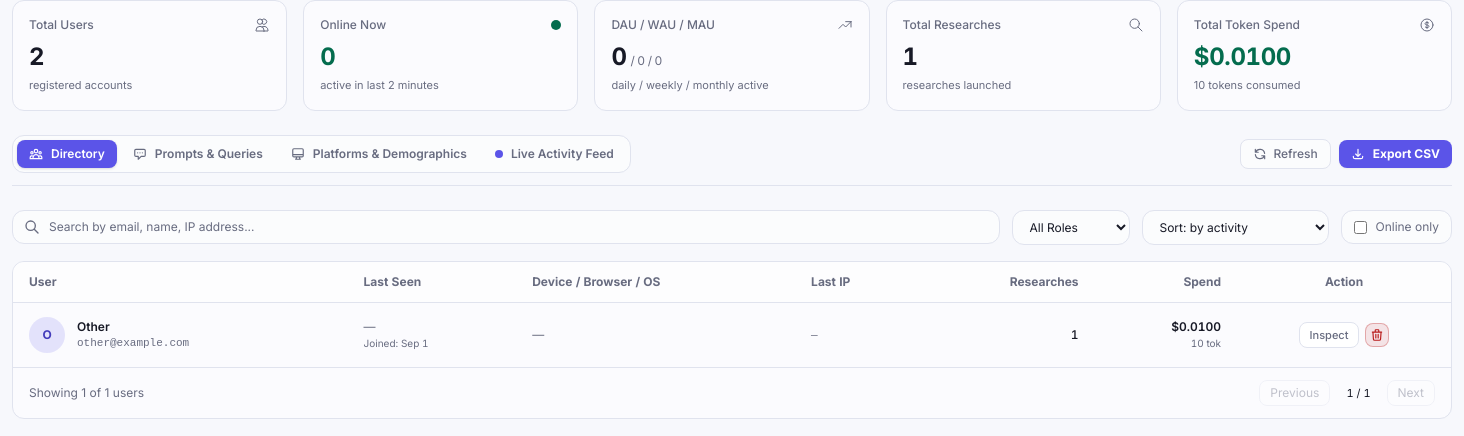
Test: admin UsersTab › does not link to other users' research (owner-scoped routes would 404)
The width and height of the screenshot is (1464, 436).
Click the button "Prompts & Queries": click(198, 154) [121, 140, 275, 168]
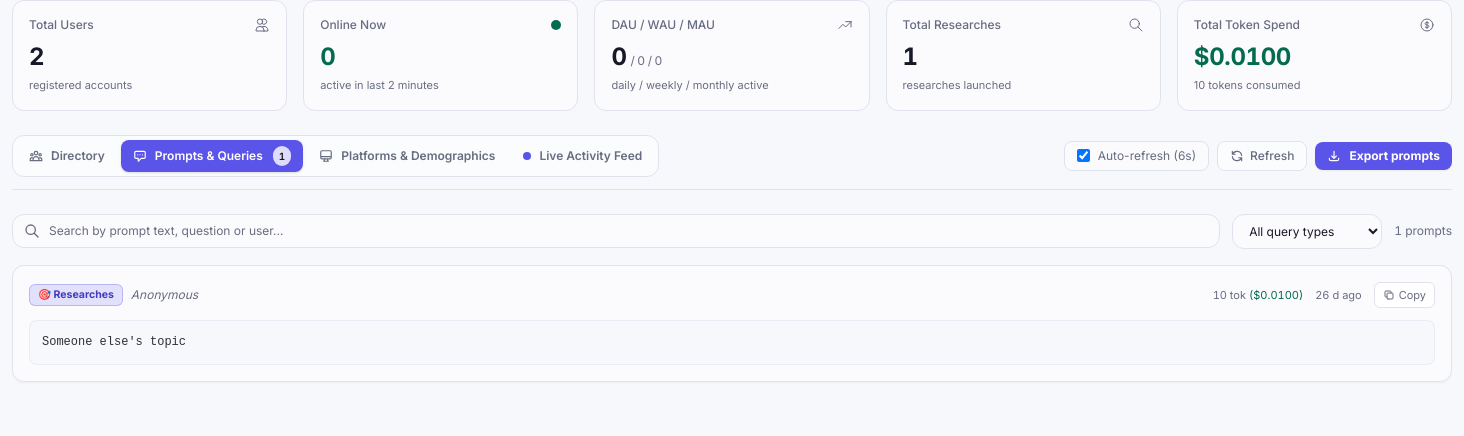
Result: the text "Someone else's topic" is shown at [29, 320, 1435, 365]
